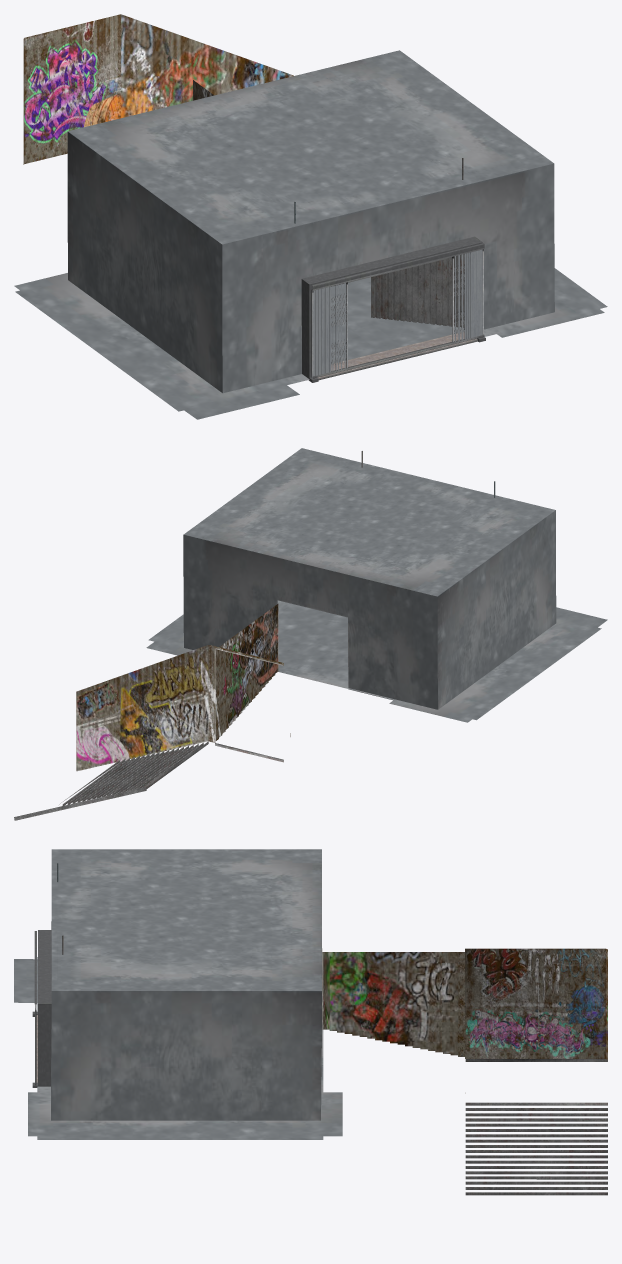
The picture shows the model from 3 angles, top to bottom: view 1: azimuth 30°, elevation 25°; view 2: azimuth 150°, elevation 25°; view 3: azimuth 270°, elevation 25°; orthographic projection. The views are drawn at different scales.
Visible parts, largest first — view 1: InWall:PIV, pasted__SM_ClubStairs:PIV, Floor02:PIV, ClubEntrance01:PIV, Entrance_NoBevel01:PIV, ClubDoor01:PIV; view 2: InWall:PIV, pasted__SM_ClubStairs:PIV, Floor02:PIV; view 3: InWall:PIV, pasted__SM_ClubStairs:PIV, Floor02:PIV, ClubEntrance01:PIV.
Part boxes in pixels (box(x1,y1,x2,y2)): InWall:PIV: box(67, 50, 554, 393); pasted__SM_ClubStairs:PIV: box(23, 14, 293, 164); Floor02:PIV: box(14, 254, 607, 419); ClubEntrance01:PIV: box(301, 236, 485, 382); Entrance_NoBevel01:PIV: box(311, 249, 483, 378); ClubDoor01:PIV: box(294, 158, 464, 327); InWall:PIV: box(183, 448, 556, 709); pasted__SM_ClubStairs:PIV: box(14, 603, 290, 820); Floor02:PIV: box(146, 600, 607, 722); InWall:PIV: box(51, 849, 321, 1120); pasted__SM_ClubStairs:PIV: box(322, 948, 607, 1195); Floor02:PIV: box(14, 957, 342, 1139); ClubEntrance01:PIV: box(32, 930, 51, 1087).
Bounding box in the file's own units: 1967 × 1235 × 2623.
Materials: 8 (8 with a texture image).
